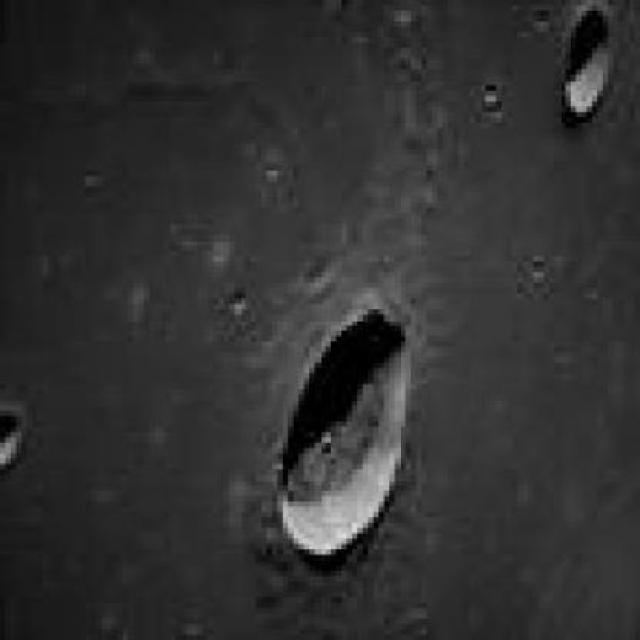crater: (277, 312, 405, 560), (562, 12, 608, 110)
